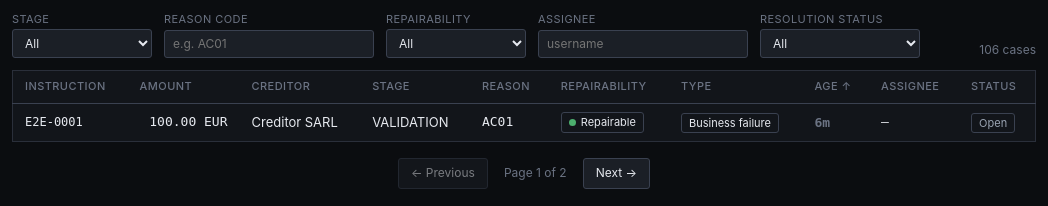
ExceptionQueueScreen › shows a smaller count once a filter narrows the match set, distinct from the unfiltered total
This screenshot has width=1048, height=206.
expect the text "106 cases" is shown: met, box [979,42,1036,58]
Type "AC01" into the field labelled "Reason code" at point(269, 44), box [164,30,374,58]
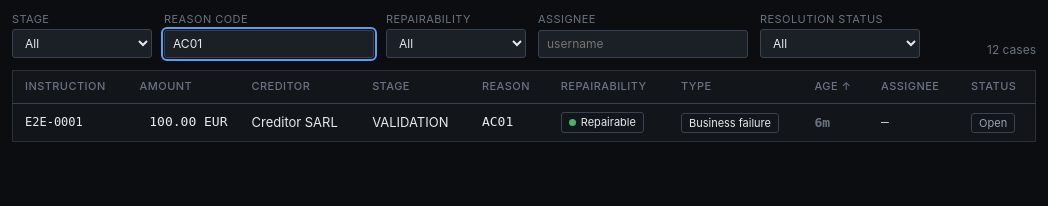
expect the text "12 cases" is shown: met, box [987,42,1036,58]
expect the text "106 cases" is gone: met
